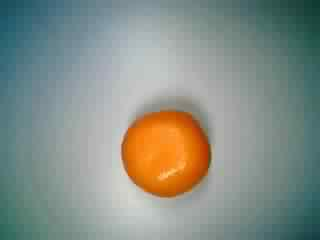orange: (118, 100, 214, 196)
